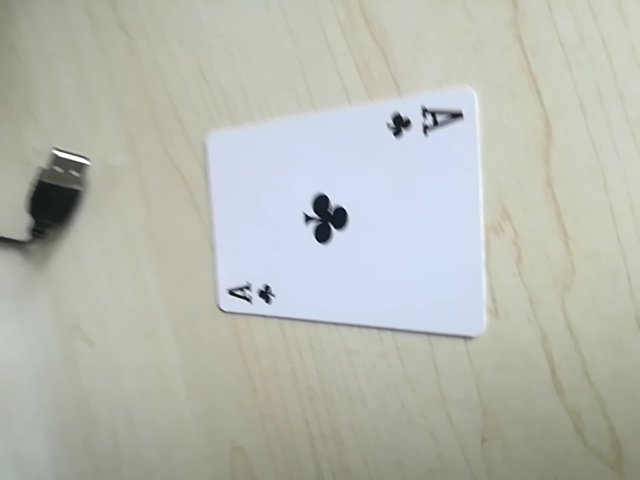mh a: (383, 98, 467, 146), (220, 272, 282, 311)
